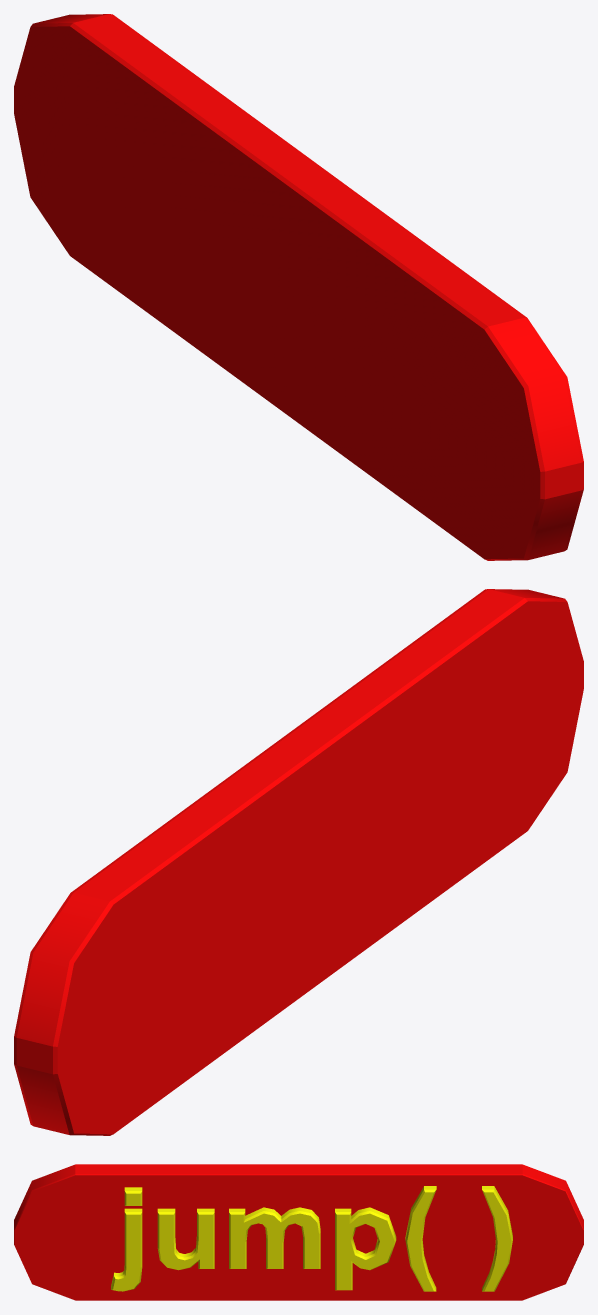
File: jump.FBX
3 renders of one model, top to bottom at view 1: azimuth 30°, elevation 25°; view 2: azimuth 150°, elevation 25°; view 3: azimuth 270°, elevation 25°, orthographic. The views are drawn at different scales.
Visible parts, largest first — view 1: jump; view 2: jump; view 3: jump.
Part boxes in pixels (x1,y1,x2,y2): jump: [14, 14, 583, 560]; jump: [14, 589, 583, 1135]; jump: [14, 1164, 583, 1300].
Size of the model in its own units: 103 by 381 by 1557.
